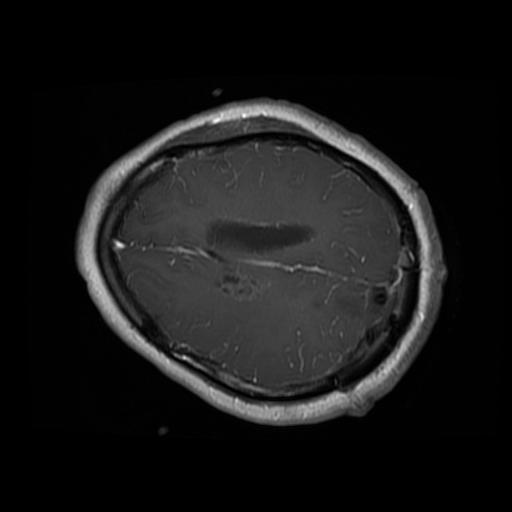glioma: (209, 267, 268, 301)
